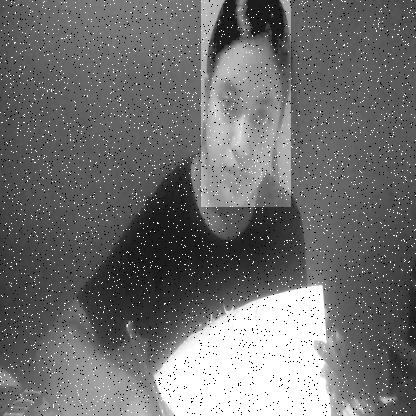Normal: (201, 0, 291, 207)
